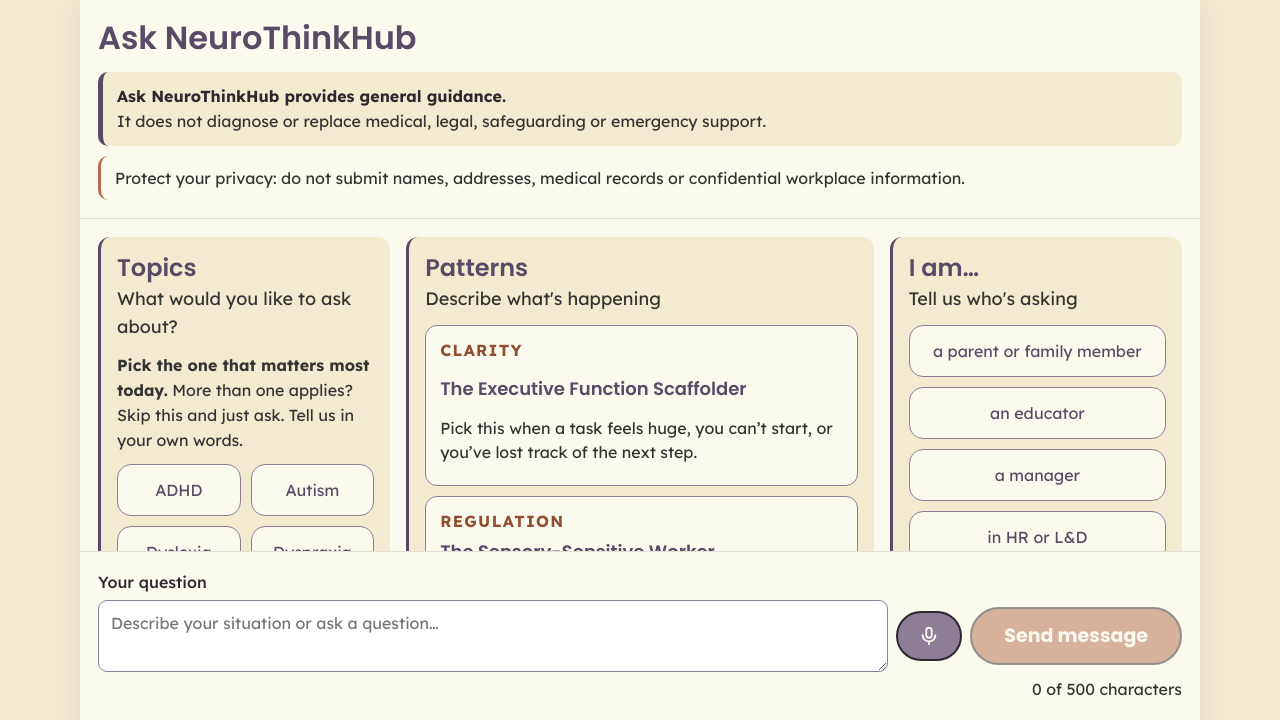
Scenario: Ask NeuroThinkHub pilot UI › explains when the microphone is blocked instead of failing silently
The image size is (1280, 720).
Click the button named "speak your question" at [929, 636], box [896,611,962,661]
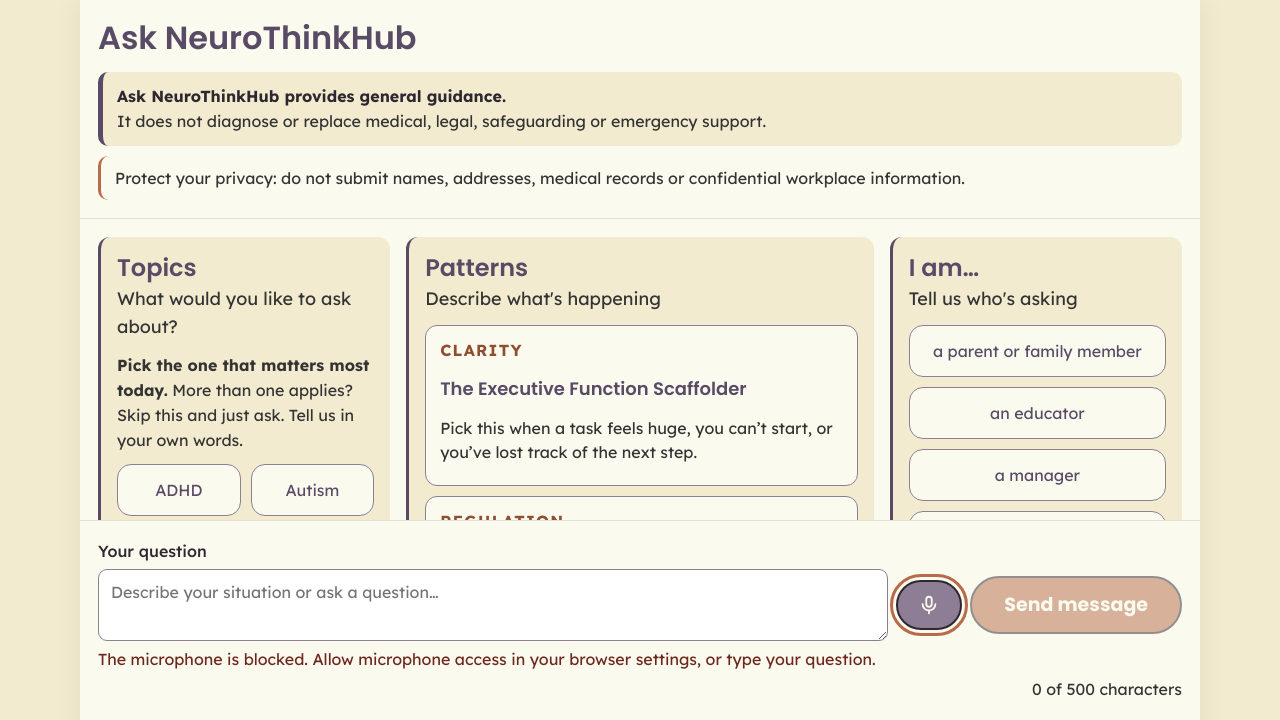
Expected: the button named "speak your question" is shown, [896,581,962,631]
Result: the message shows "The microphone is blocked" at [98,649,876,669]
